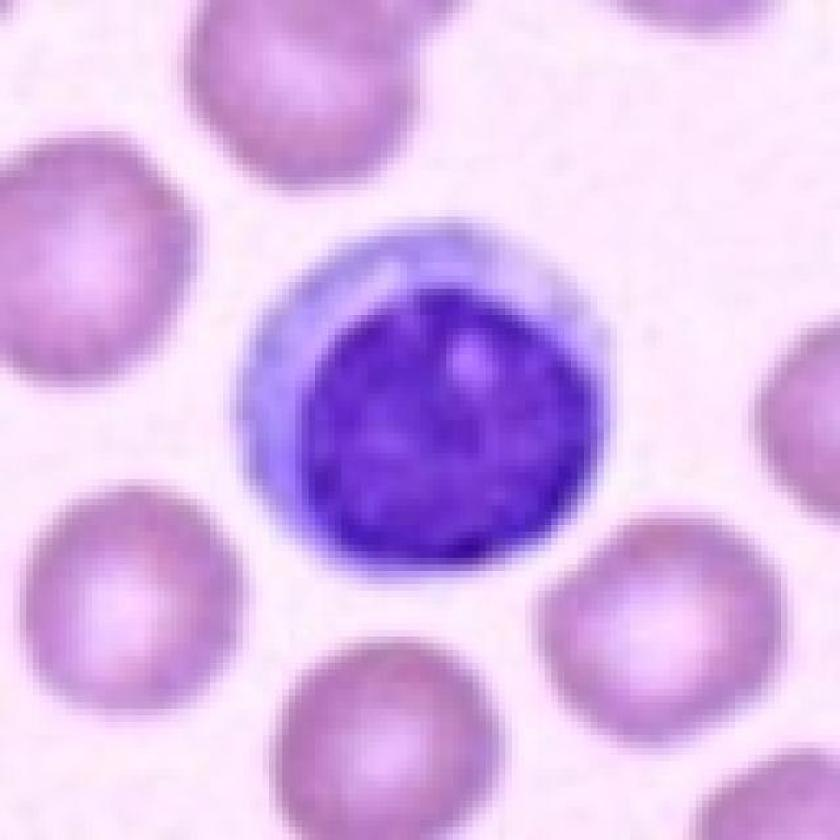lymphocyte: (237, 211, 617, 592)
